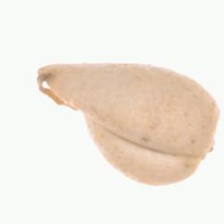L1: (190, 109, 219, 181), (38, 61, 62, 107)
L2: (37, 60, 218, 186)
